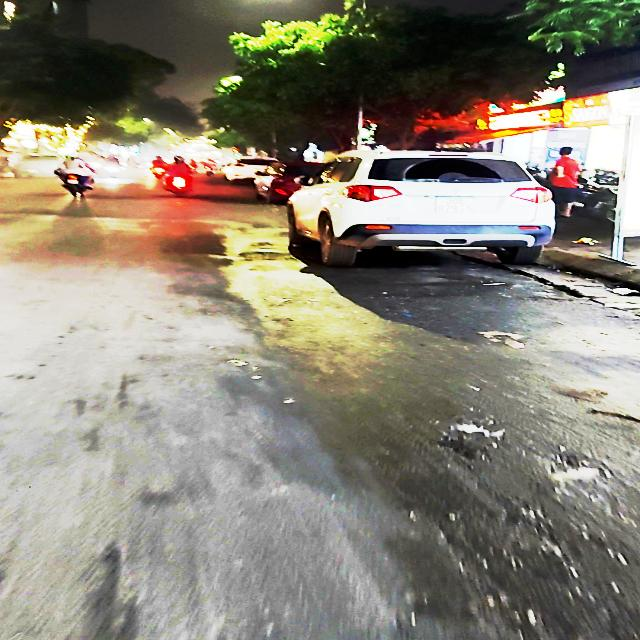license_plate: (436, 197, 476, 215)
